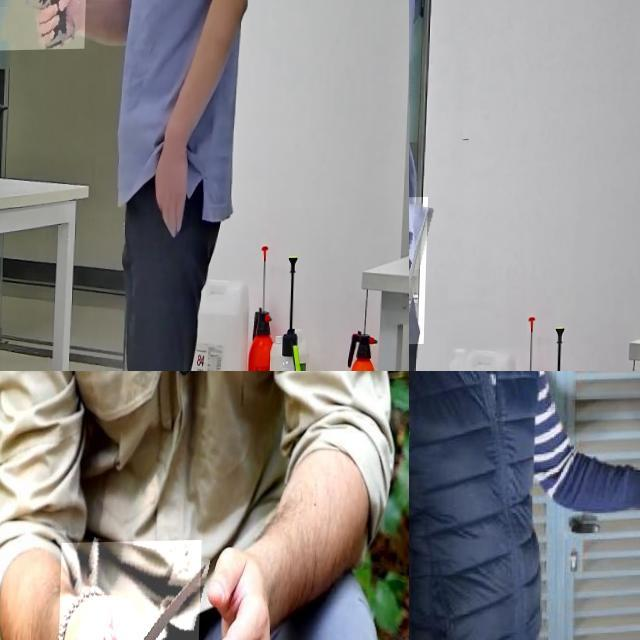-: (58, 541, 203, 640)
gun-knife-thesis - v11 Yolov5 augmented: (409, 198, 452, 346), (0, 0, 88, 58)
